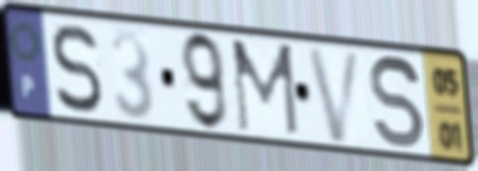3: (108, 26, 157, 123)
9: (179, 29, 230, 134)
M: (228, 37, 302, 140)
S: (367, 52, 428, 153), (50, 22, 105, 117)
V: (303, 44, 365, 146)
